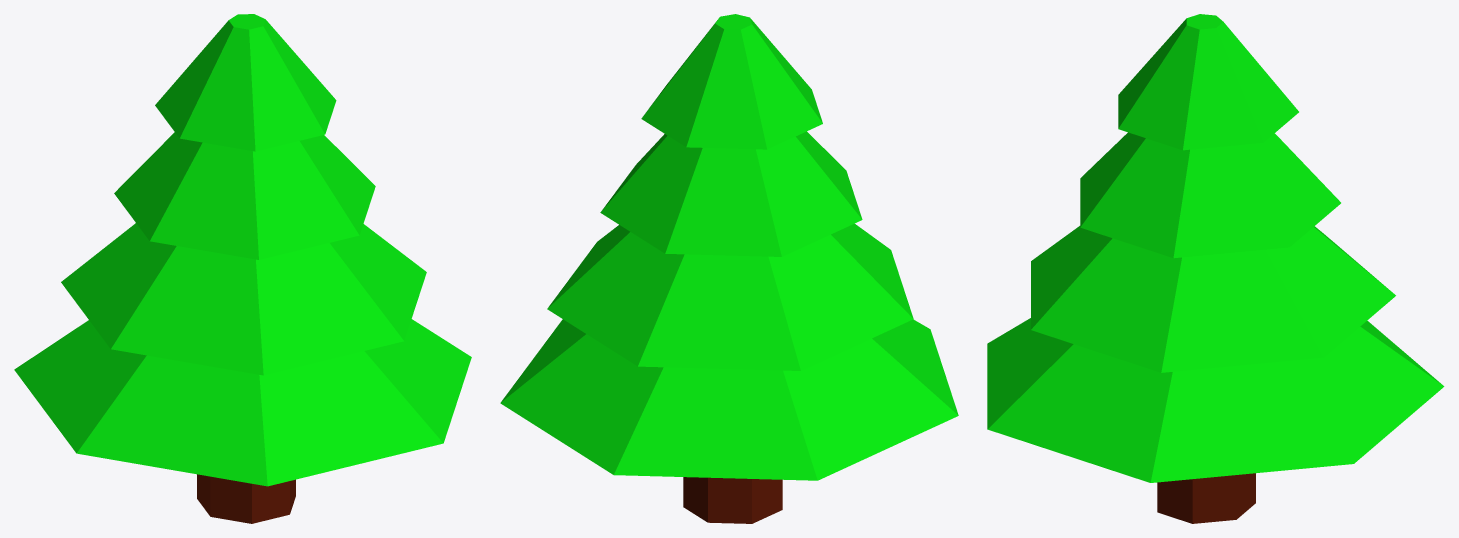
The model's file is Pino_1.fbx.
3 views of the same model, side by side, from view 1: azimuth 30°, elevation 25°; view 2: azimuth 150°, elevation 25°; view 3: azimuth 270°, elevation 25° (orthographic).
Visible parts, largest first — view 1: Cylinder; view 2: Cylinder; view 3: Cylinder.
Part boxes in pixels (box(x1,y1,x2,y2)): Cylinder: box(14, 14, 471, 523); Cylinder: box(500, 14, 958, 523); Cylinder: box(987, 14, 1444, 523).
Size of the model in its own units: 1.4 by 1.63 by 1.4.
